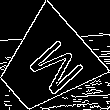M_SW: (12, 31, 80, 99)
